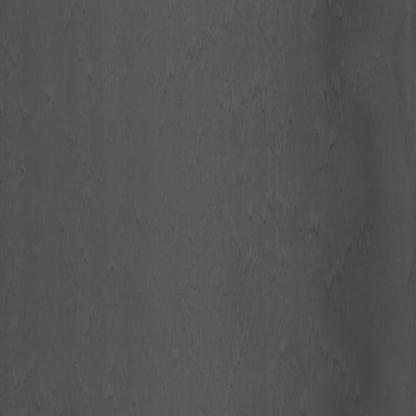silk_spot: (212, 61, 292, 315), (302, 57, 363, 313)
